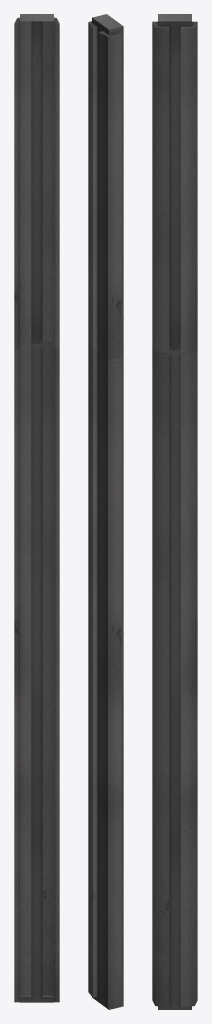
The model's file is wall_column_192_ext.glb.
3 renders of one model, left to right at view 1: azimuth 90°, elevation 25°; view 2: azimuth 210°, elevation 25°; view 3: azimuth 270°, elevation 25°, orthographic.
Visible parts, largest first — view 1: wall_column_192_ext; view 2: wall_column_192_ext; view 3: wall_column_192_ext.
Part boxes in pixels (box(x1,y1,x2,y2)): wall_column_192_ext: box(14, 14, 59, 1002); wall_column_192_ext: box(88, 14, 123, 1009); wall_column_192_ext: box(152, 14, 197, 1009).
Size of the model in its own units: 0.0762 by 3.66 by 0.1524.
Materials: 2 (2 with a texture image).
